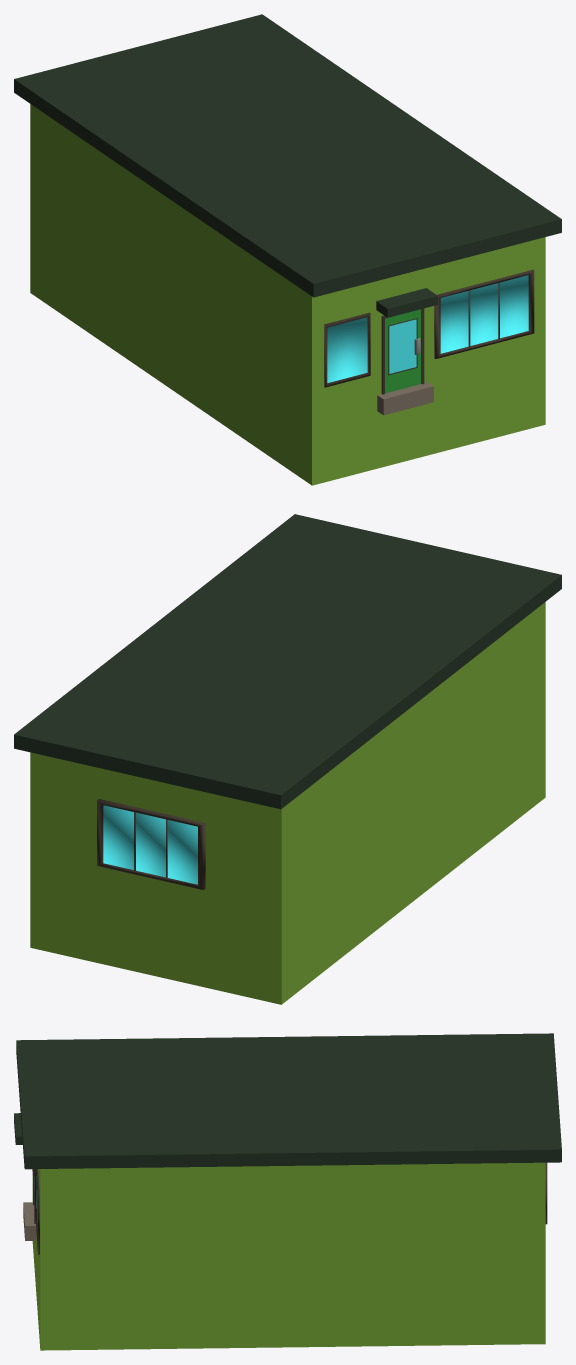
File: d-mobile_compressed.glb
3 views of the same model, one above another, from view 1: azimuth 30°, elevation 25°; view 2: azimuth 150°, elevation 25°; view 3: azimuth 270°, elevation 25° (orthographic). The views are drawn at different scales.
Parts seen in each view (by area): view 1: Cube.287, Cube.289, Cube.291, Cube.292; view 2: Cube.287, Cube.289; view 3: Cube.287, Cube.289, Cube.292.
Boxes of the visible parts, <box> form: Cube.287: <box>14,14,561,485</box>; Cube.289: <box>324,269,534,394</box>; Cube.291: <box>385,309,421,393</box>; Cube.292: <box>377,382,433,415</box>; Cube.287: <box>14,514,561,1004</box>; Cube.289: <box>97,799,205,889</box>; Cube.287: <box>14,1033,561,1350</box>; Cube.289: <box>32,1162,547,1254</box>; Cube.292: <box>23,1202,36,1240</box>.
Bounding box in the file's own units: 1.78 × 1.33 × 3.35.
